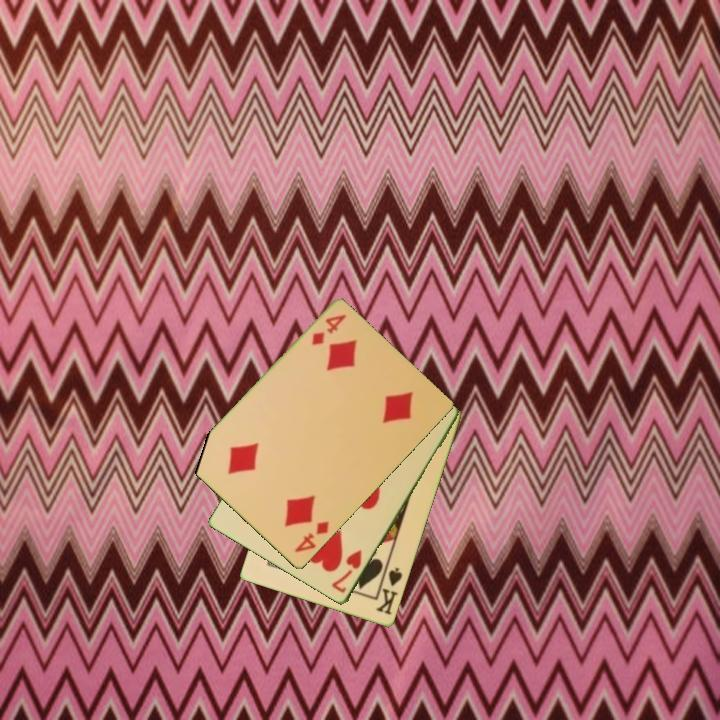4d: (291, 518, 332, 556), (308, 311, 349, 349)
7h: (328, 546, 365, 596)
Ks: (373, 562, 406, 618)
